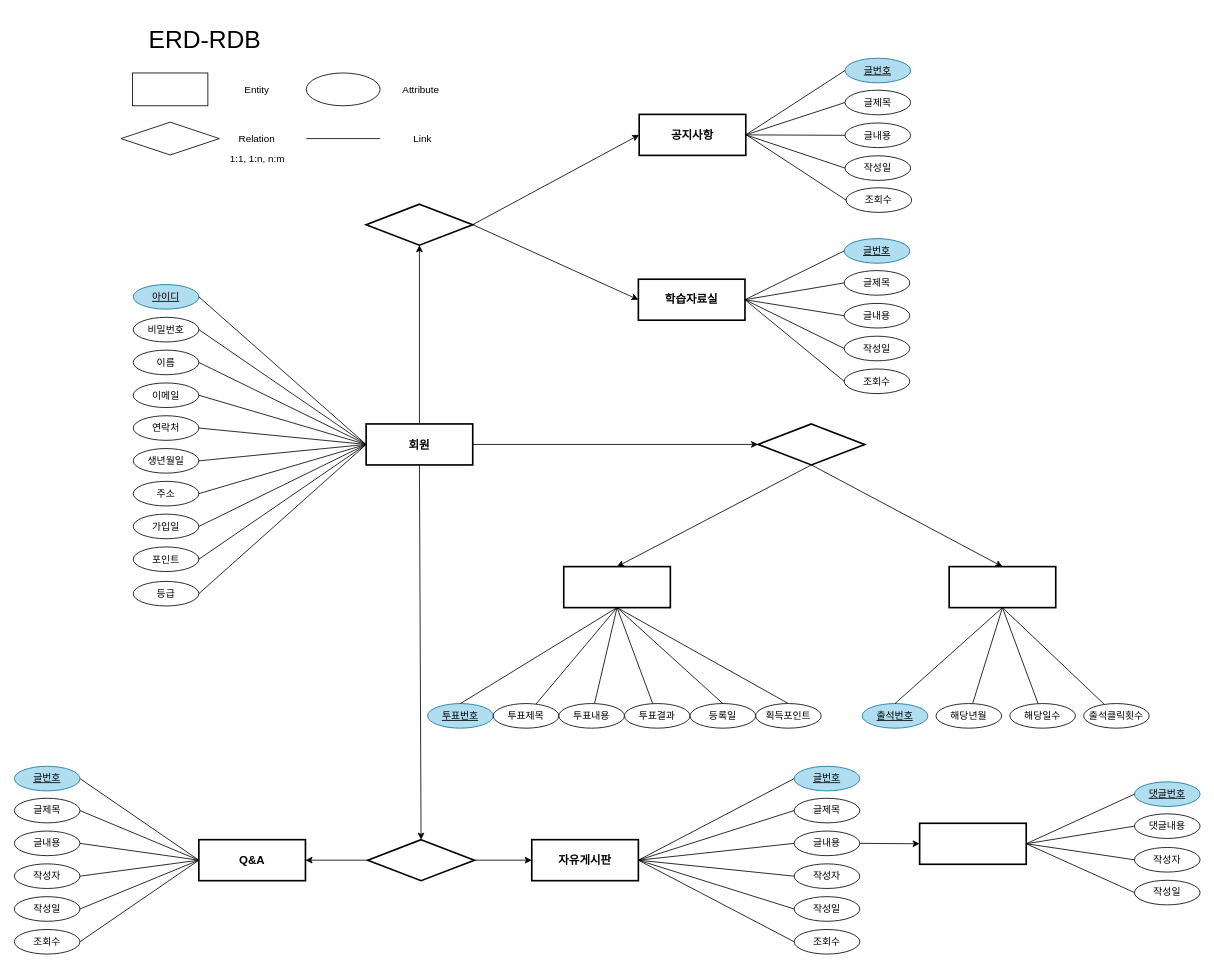
Some shapes in this 1214 by 968 pixel diagram are drawn without their labels. The shapes that lost their labels are listed below. From the top down, each one's centre as x and y in pixels, then its label:
At (419,224): "상세보기".
At (811,444): "참여".
At (617,586): "투표".
At (1002,586): "출석체크".
At (421,859): "작성".
At (972,843): "댓글".
